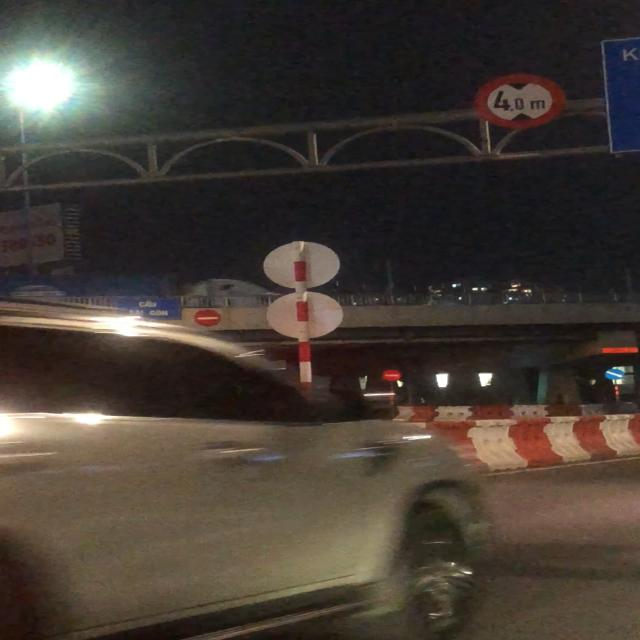Bien bao cam di nguoc chieu: (192, 307, 225, 329), (381, 368, 403, 383)
Bien bao han che chieu cao: (469, 70, 568, 131)
Bien bao huong phai di vong chuong ngai vat: (605, 367, 627, 382)
